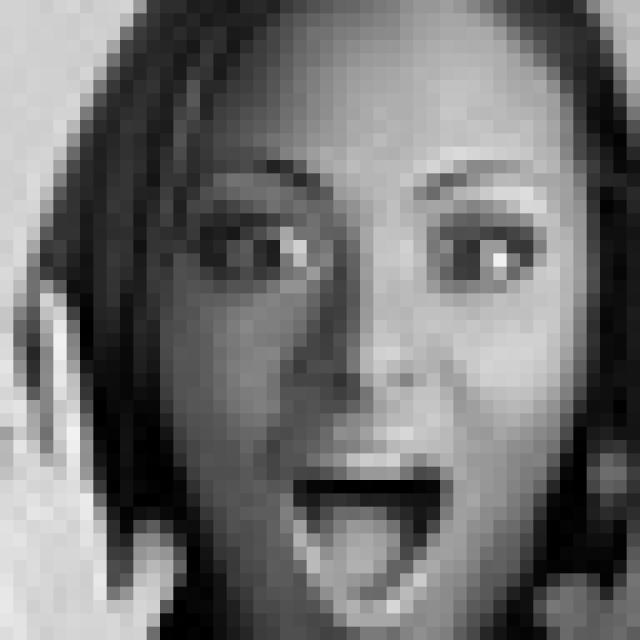surprise: (193, 138, 564, 640)
